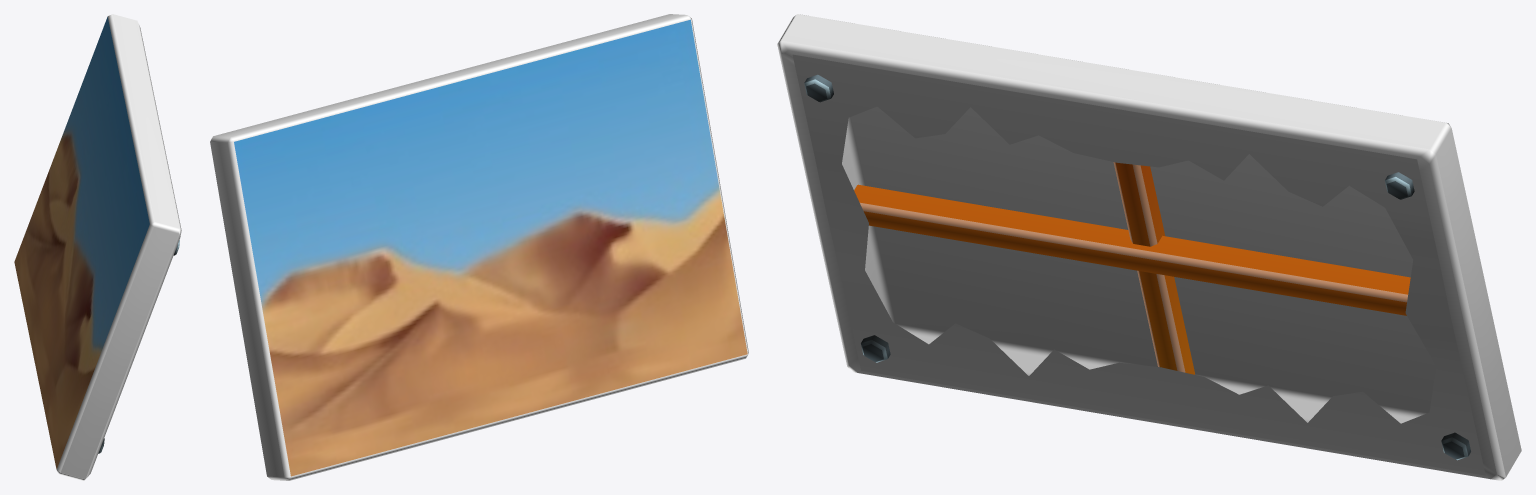
File: framed-painting-1.glb
The picture shows the model from 3 angles, left to right: view 1: azimuth 30°, elevation 25°; view 2: azimuth 150°, elevation 25°; view 3: azimuth 270°, elevation 25°; orthographic projection. The views are drawn at different scales.
Visible parts, largest first — view 1: Object_19, Object_18; view 2: Object_19, Object_18; view 3: Object_18.
Boxes of the visible parts, <box> form: Object_19: <box>14,17,149,469</box>; Object_18: <box>56,14,181,480</box>; Object_19: <box>234,19,747,476</box>; Object_18: <box>210,14,748,480</box>; Object_18: <box>777,14,1521,480</box>.
Size of the model in its own units: 0.6259 by 0.6145 by 0.9985.
Materials: 2 (2 with a texture image).
